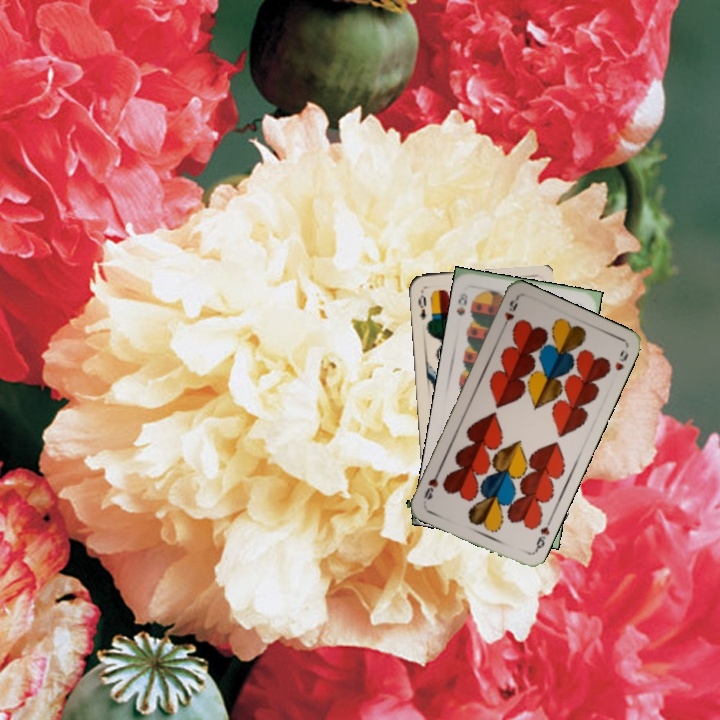EO: (414, 287, 429, 322)
H9: (531, 516, 553, 555), (498, 295, 520, 333)
S8: (452, 289, 470, 318)
